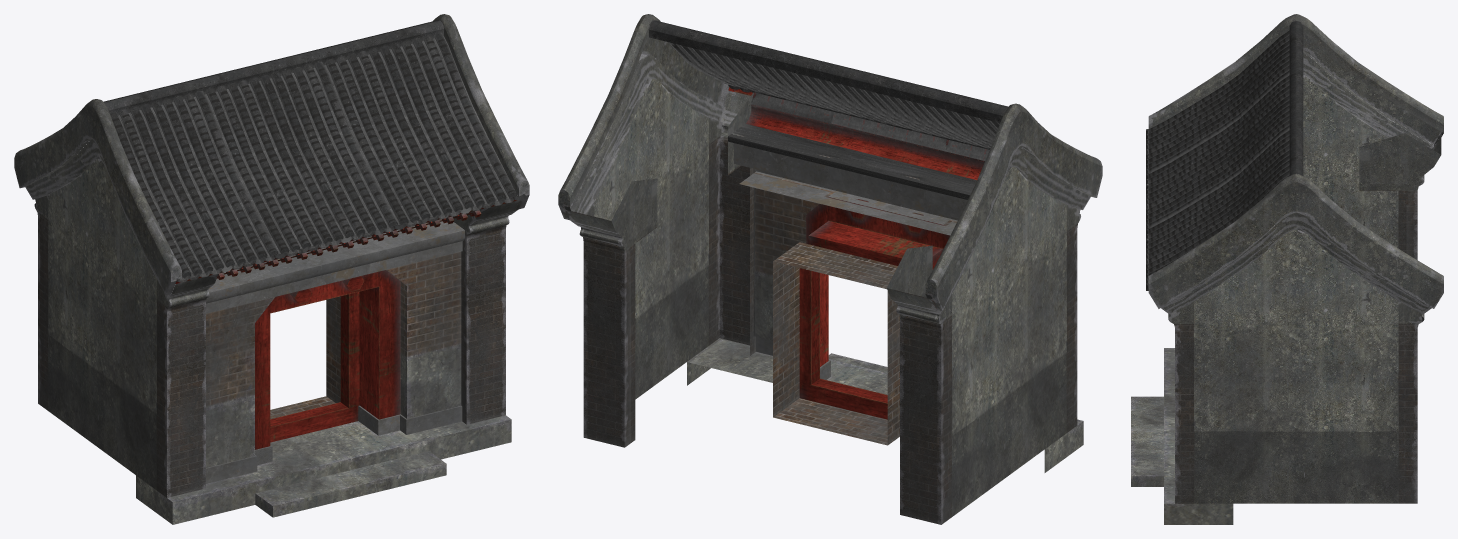
Rendered from hutong_gate_b.fbx.
The picture shows the model from 3 angles, left to right: view 1: azimuth 30°, elevation 25°; view 2: azimuth 150°, elevation 25°; view 3: azimuth 270°, elevation 25°; orthographic projection. The views are drawn at different scales.
Parts seen in each view (by area): view 1: geo_gate_b; view 2: geo_gate_b; view 3: geo_gate_b.
Part boxes in pixels (<box>): geo_gate_b: <box>14,14,529,524</box>; geo_gate_b: <box>558,14,1102,524</box>; geo_gate_b: <box>1131,14,1443,524</box>.
Size of the model in its own units: 495 by 495 by 397.
2 materials, 2 textured.
